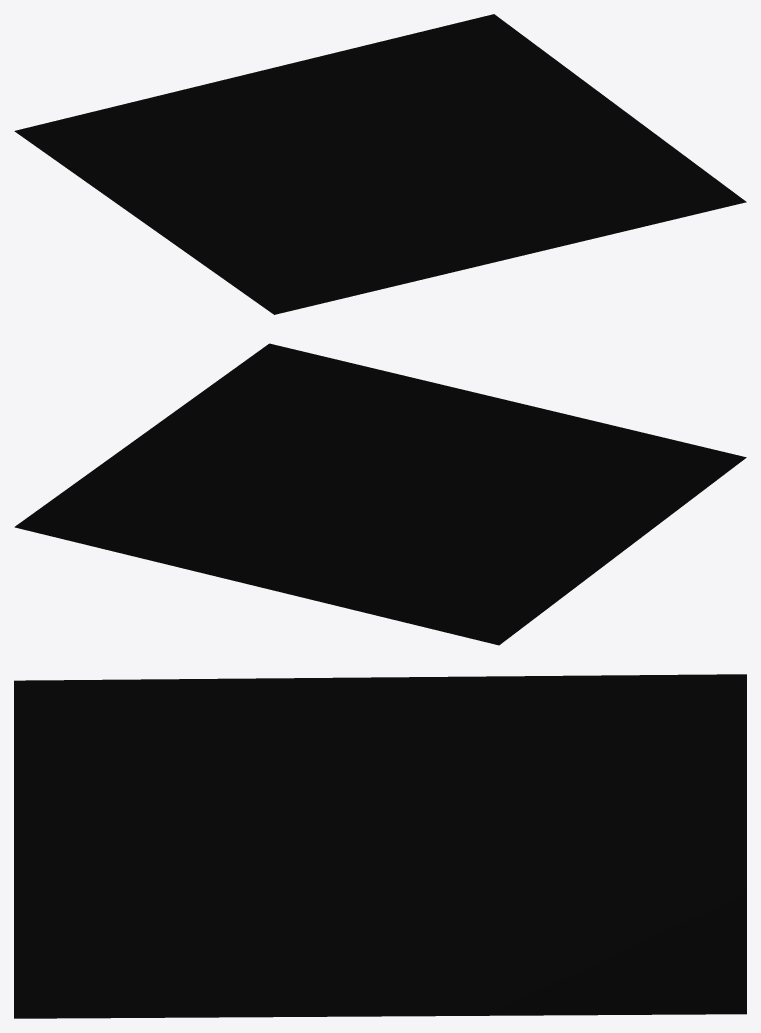
Rendered from OZ_99_sn_sdwbox01D.glb.
The picture shows the model from 3 angles, top to bottom: view 1: azimuth 30°, elevation 25°; view 2: azimuth 150°, elevation 25°; view 3: azimuth 270°, elevation 25°; orthographic projection. The views are drawn at different scales.
Visible parts, largest first — view 1: OM_99_sn_sdwbox01D; view 2: OM_99_sn_sdwbox01D; view 3: OM_99_sn_sdwbox01D.
Boxes of the visible parts, x1,y1,x2,y2 form: OM_99_sn_sdwbox01D: [14, 14, 746, 314]; OM_99_sn_sdwbox01D: [14, 343, 746, 645]; OM_99_sn_sdwbox01D: [14, 674, 746, 1018].
Bounding box in the file's own units: 2.58 × 0.0169 × 2.35.
1 material, 1 textured.
